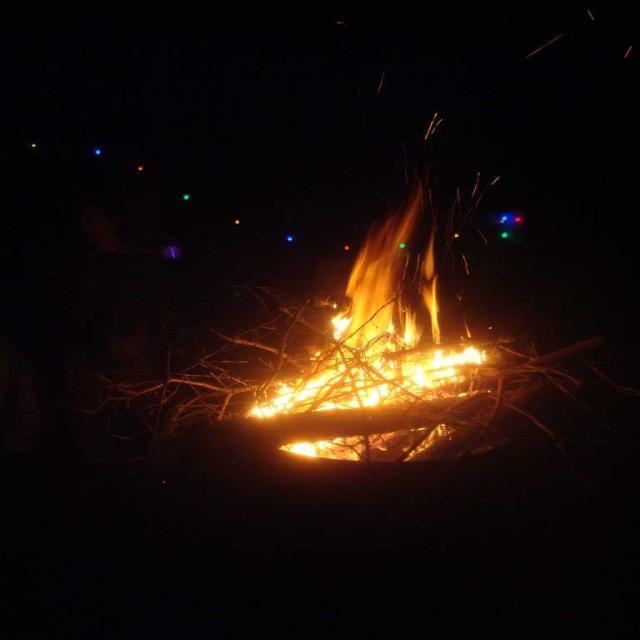Fire: (346, 270, 431, 400), (283, 364, 339, 408), (440, 352, 467, 382)
